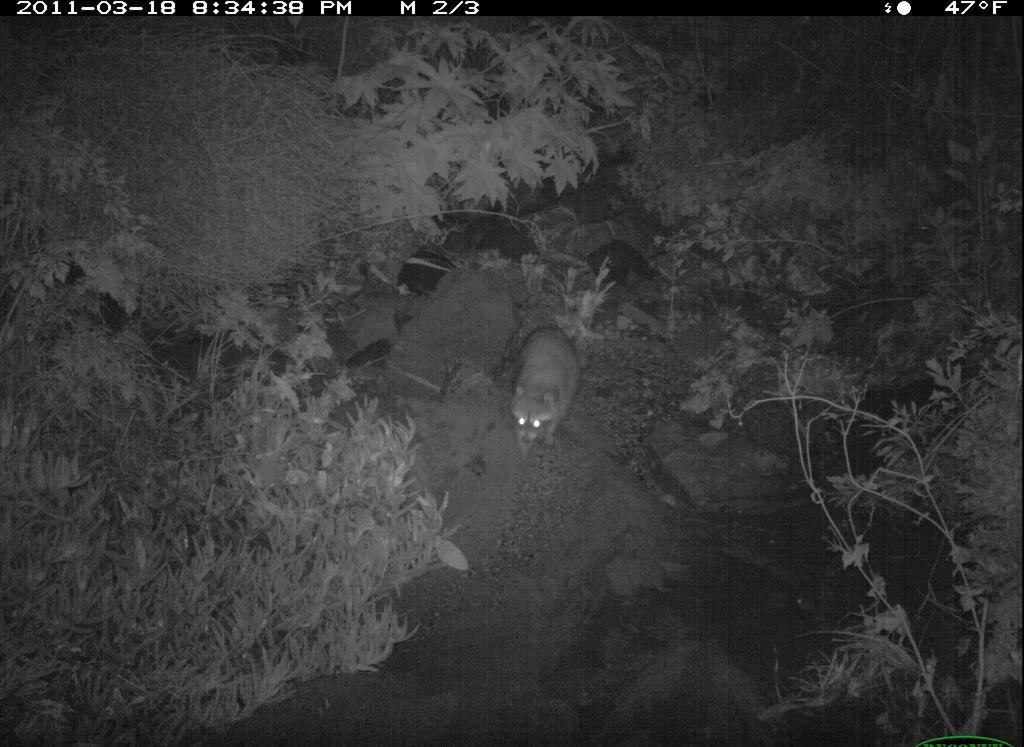raccoon: (498, 310, 597, 463)
